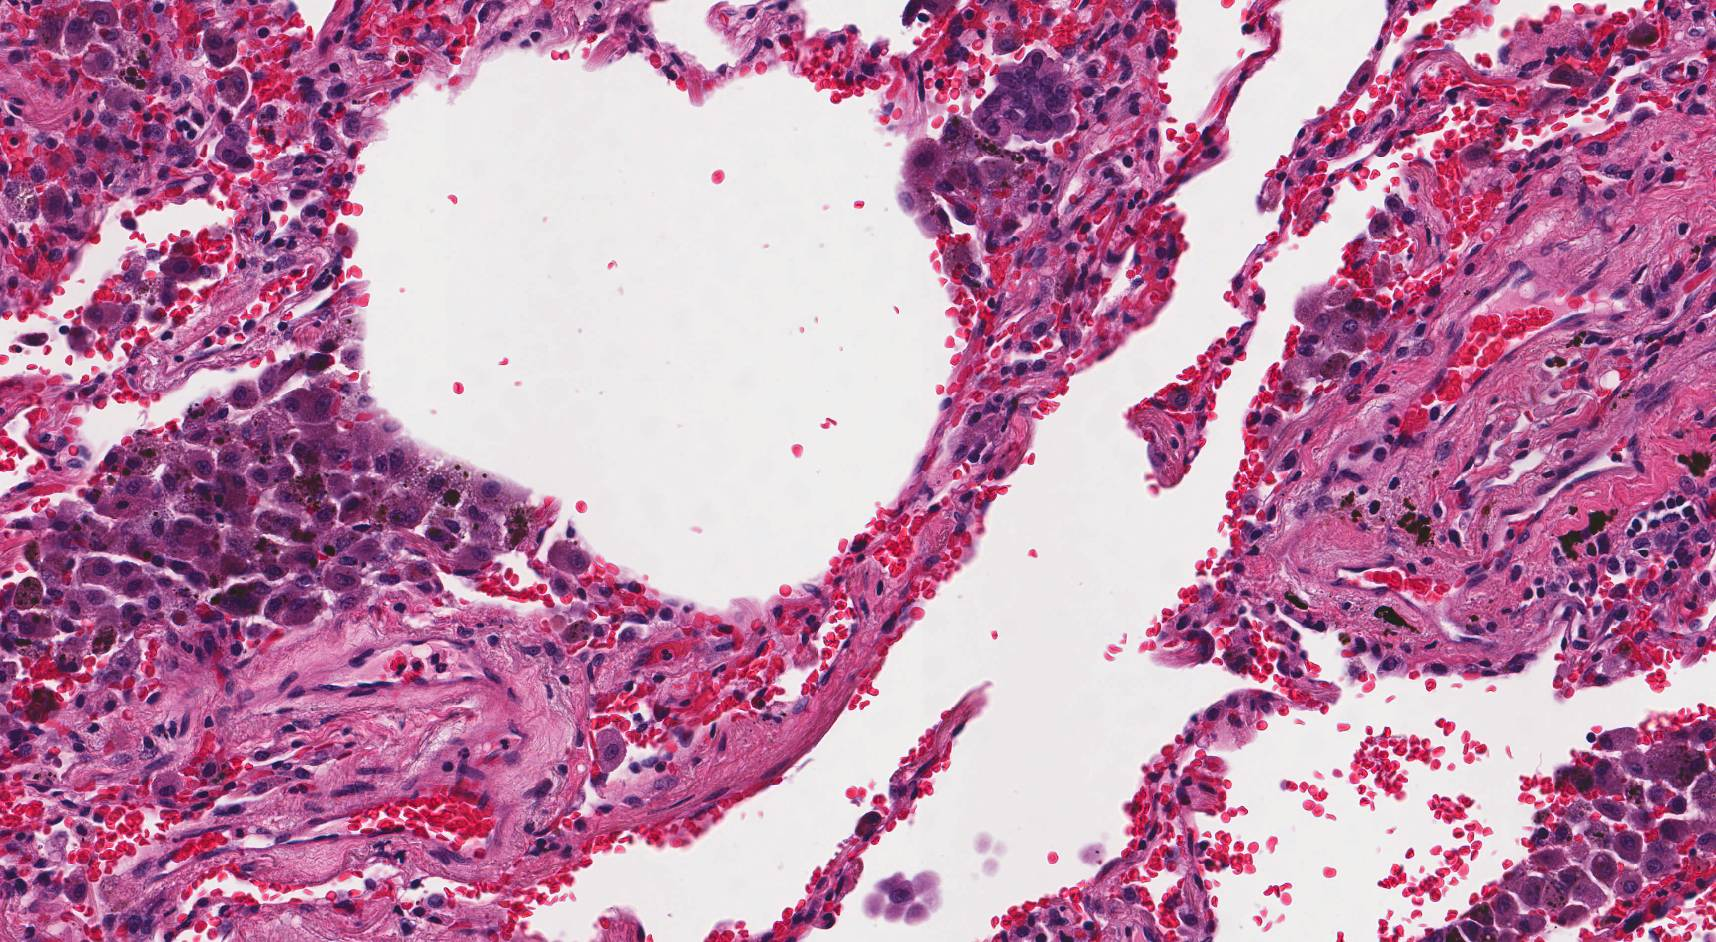stas: (971, 52, 1075, 143)
